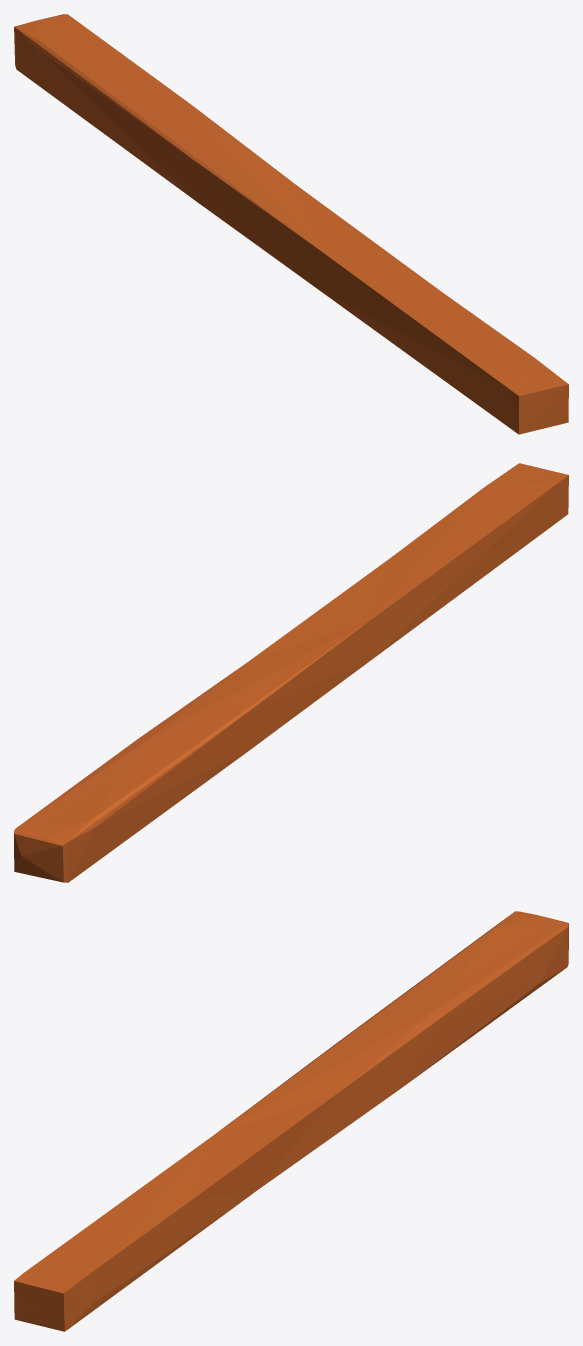
The model's file is Beam.fbx.
3 views of the same model, one above another, from view 1: azimuth 30°, elevation 25°; view 2: azimuth 150°, elevation 25°; view 3: azimuth 330°, elevation 25° (orthographic).
Visible parts, largest first — view 1: Beam; view 2: Beam; view 3: Beam.
Part boxes in pixels (x1,y1,x2,y2): Beam: [14, 14, 568, 434]; Beam: [14, 463, 568, 882]; Beam: [14, 911, 568, 1331].
Size of the model in its own units: 0.1907 by 0.1479 by 3.
